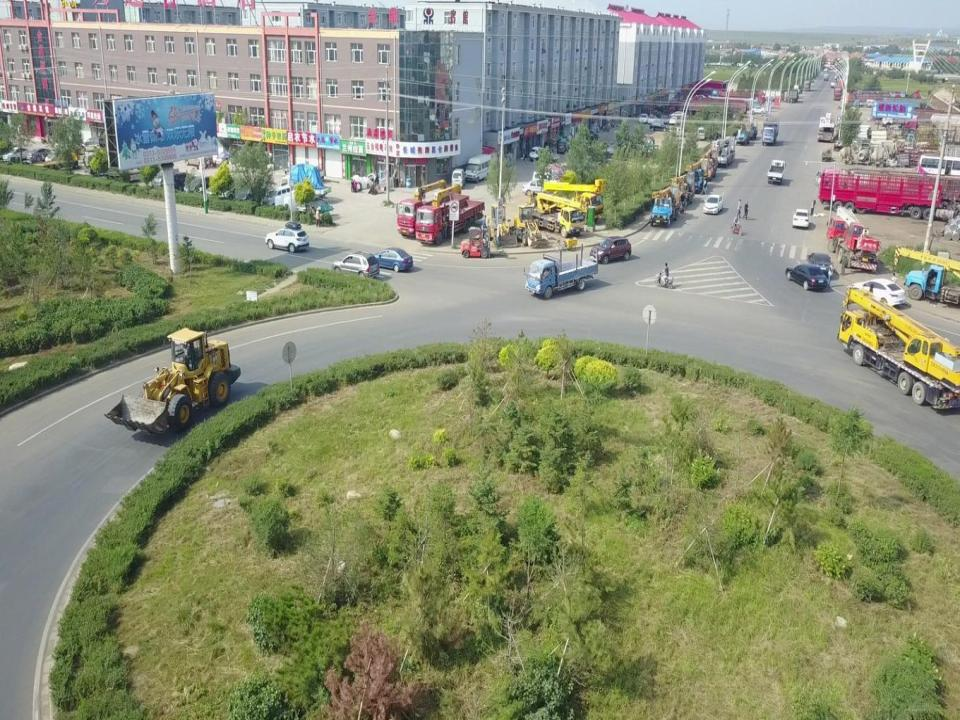bus: (917, 152, 960, 182)
car: (852, 278, 906, 310), (330, 251, 380, 282), (265, 222, 310, 253), (785, 262, 828, 290), (589, 236, 632, 264), (368, 247, 414, 272), (182, 175, 214, 197), (806, 251, 833, 277), (206, 177, 235, 198), (166, 171, 193, 192), (218, 181, 246, 201), (522, 179, 554, 196), (235, 186, 262, 204), (1, 147, 31, 162), (25, 147, 56, 161), (702, 194, 723, 214), (792, 207, 810, 228), (81, 138, 106, 152), (529, 146, 551, 161), (556, 138, 572, 154), (649, 120, 670, 132), (668, 110, 685, 121), (750, 105, 766, 115), (669, 127, 685, 137), (646, 115, 661, 124), (639, 113, 648, 124), (668, 116, 678, 125)
truck: (818, 168, 948, 222), (523, 252, 599, 300), (666, 97, 748, 118), (881, 106, 947, 131), (279, 173, 332, 201), (848, 90, 922, 110), (903, 112, 960, 135), (717, 90, 766, 108), (766, 158, 786, 186), (762, 116, 780, 146), (788, 88, 800, 102), (833, 87, 843, 100)
van: (464, 154, 492, 184), (261, 184, 292, 208), (152, 167, 179, 190), (183, 148, 214, 166), (532, 170, 562, 188), (543, 163, 573, 181), (44, 148, 70, 164), (451, 168, 466, 189), (696, 125, 706, 140)
